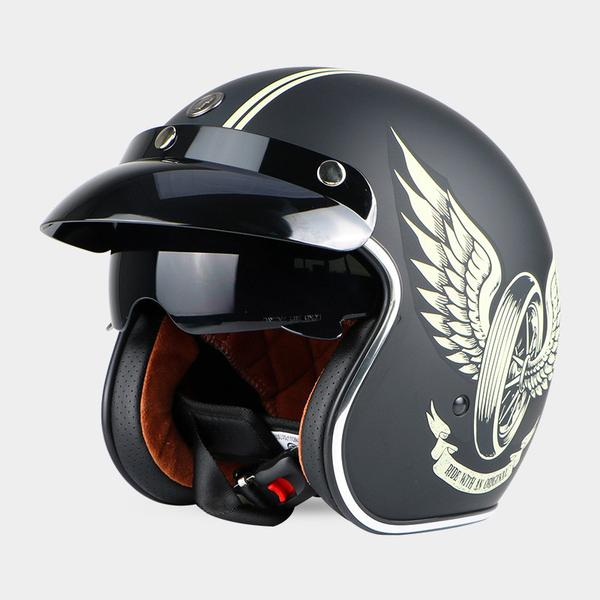with_helmet: (27, 61, 566, 538)
